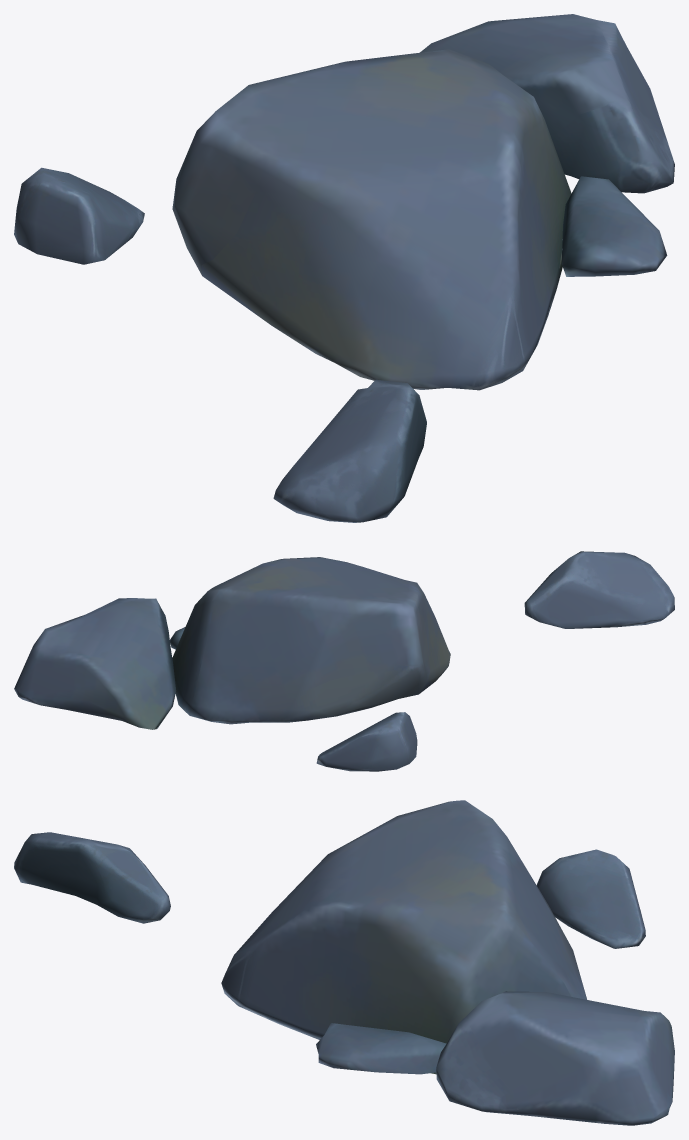
File: SM_Stone_03.glb
3 views of the same model, one above another, from view 1: azimuth 30°, elevation 25°; view 2: azimuth 150°, elevation 25°; view 3: azimuth 270°, elevation 25° (orthographic). The views are drawn at different scales.
Visible parts, largest first — view 1: SM_Stone_03; view 2: SM_Stone_03; view 3: SM_Stone_03.
Part boxes in pixels (x1,y1,x2,y2): SM_Stone_03: [14, 14, 674, 522]; SM_Stone_03: [14, 551, 674, 771]; SM_Stone_03: [14, 800, 674, 1125].
Size of the model in its own units: 2.5 by 0.6796 by 2.66.
1 material, 1 textured.
